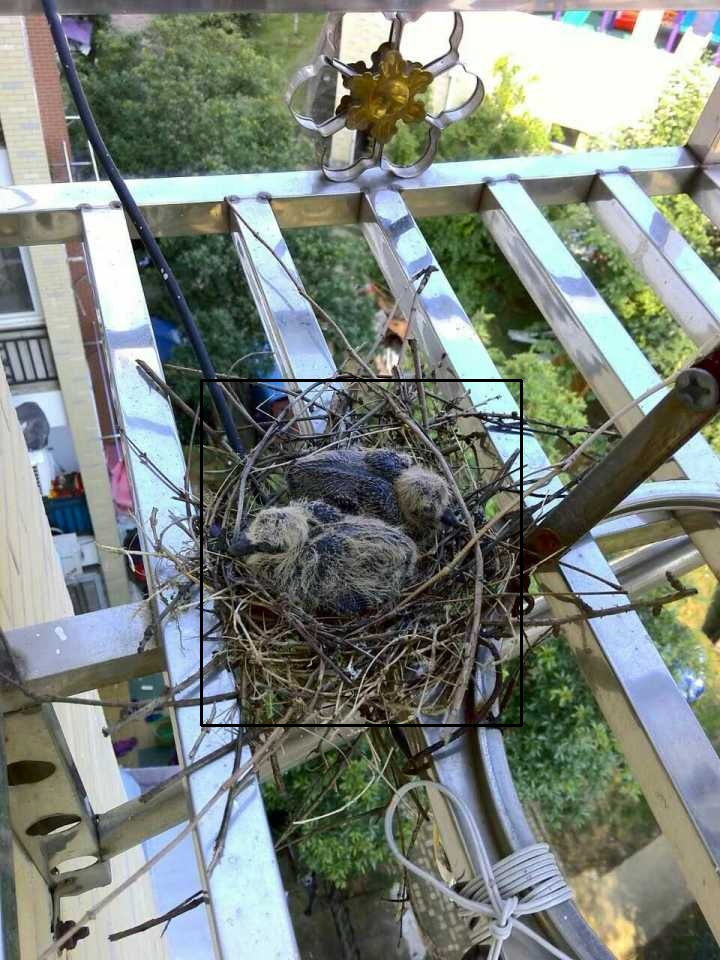bird-nest: (201, 380, 521, 725)
